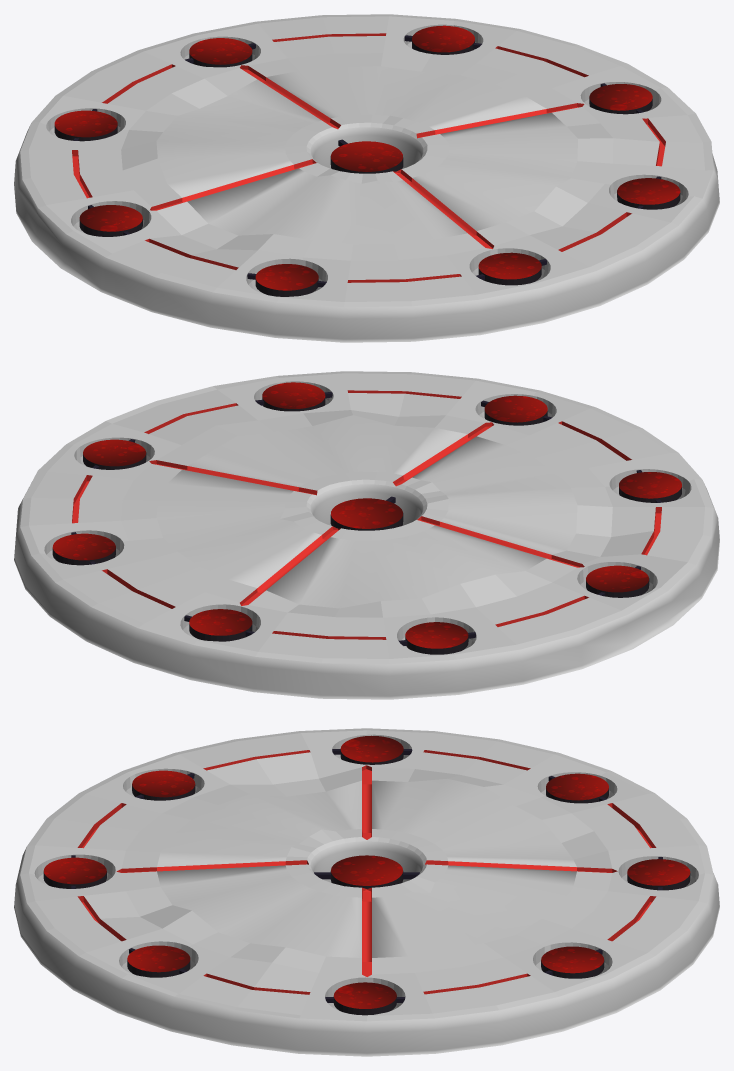
The model's file is Puzzle_Buttons.fbx.
3 views of the same model, one above another, from view 1: azimuth 30°, elevation 25°; view 2: azimuth 150°, elevation 25°; view 3: azimuth 270°, elevation 25° (orthographic).
Parts seen in each view (by area): view 1: Steen, BighChip, Chips.005, Chips.004, Chips.007, Chips.003, Chips.006, Chips.002, Chips.008, Chips.001, Chips_Rods; view 2: Steen, BighChip, Chips.006, Chips.008, Chips.007, Chips.001, Chips.005, Chips.002, Chips.004, Chips.003, Chips_Rods; view 3: Steen, BighChip, Chips.002, Chips.001, Chips.003, Chips.004, Chips.008, Chips.005, Chips.007, Chips.006.
Boxes of the visible parts, left/top/right/bottom form: Steen: left=14, top=14, right=719, bottom=342; BighChip: left=330, top=141, right=403, bottom=173; Chips.005: left=255, top=264, right=318, bottom=296; Chips.004: left=478, top=252, right=541, bottom=285; Chips.007: left=79, top=205, right=142, bottom=236; Chips.003: left=617, top=178, right=680, bottom=209; Chips.006: left=54, top=110, right=117, bottom=141; Chips.002: left=589, top=84, right=652, bottom=114; Chips.008: left=189, top=38, right=252, bottom=67; Chips.001: left=412, top=25, right=474, bottom=54; Chips_Rods: left=73, top=35, right=661, bottom=287; Steen: left=14, top=371, right=719, bottom=699; BighChip: left=330, top=498, right=403, bottom=530; Chips.006: left=405, top=622, right=468, bottom=654; Chips.008: left=189, top=609, right=252, bottom=641; Chips.007: left=586, top=565, right=649, bottom=597; Chips.001: left=52, top=533, right=115, bottom=565; Chips.005: left=619, top=472, right=681, bottom=502; Chips.002: left=83, top=439, right=146, bottom=469; Chips.004: left=484, top=395, right=547, bottom=425; Chips.003: left=262, top=382, right=325, bottom=411; Chips_Rods: left=71, top=391, right=661, bottom=645; Steen: left=14, top=728, right=719, bottom=1056; BighChip: left=330, top=855, right=403, bottom=888; Chips.002: left=333, top=982, right=396, bottom=1015; Chips.001: left=541, top=946, right=604, bottom=978; Chips.003: left=127, top=945, right=190, bottom=977; Chips.004: left=43, top=857, right=106, bottom=888; Chips.008: left=627, top=859, right=690, bottom=890; Chips.005: left=132, top=770, right=195, bottom=800; Chips.007: left=340, top=735, right=403, bottom=764; Chips.006: left=546, top=773, right=608, bottom=803.
Bounding box in the file's own units: 1500 × 116 × 1500.
